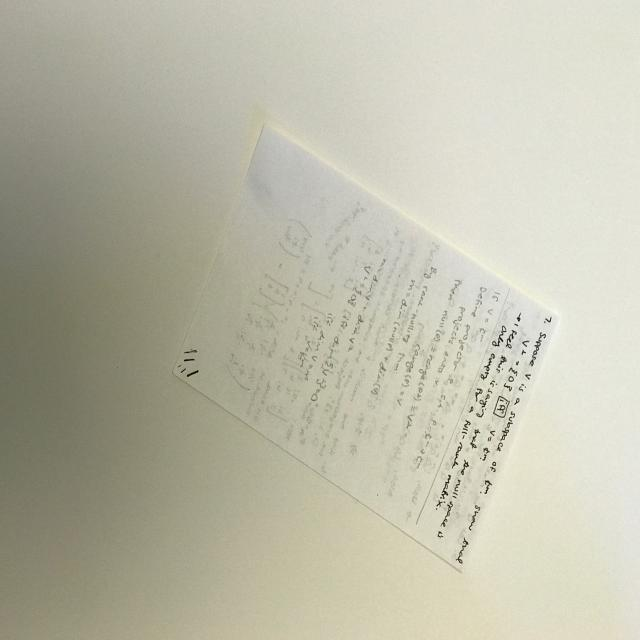paper: (172, 125, 559, 574)
